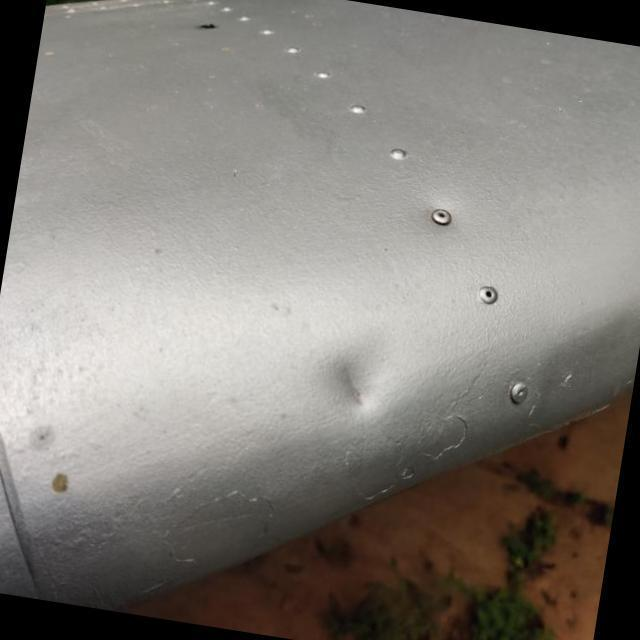Dent: (284, 323, 412, 446)
